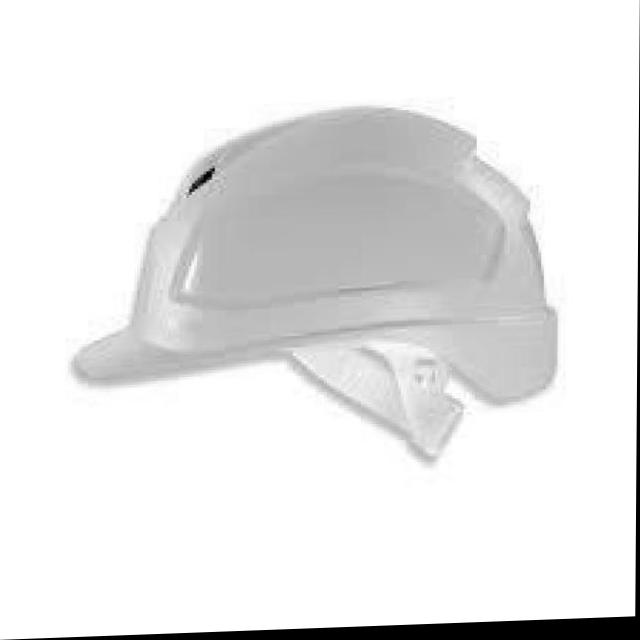Helmet: (74, 105, 562, 491)
